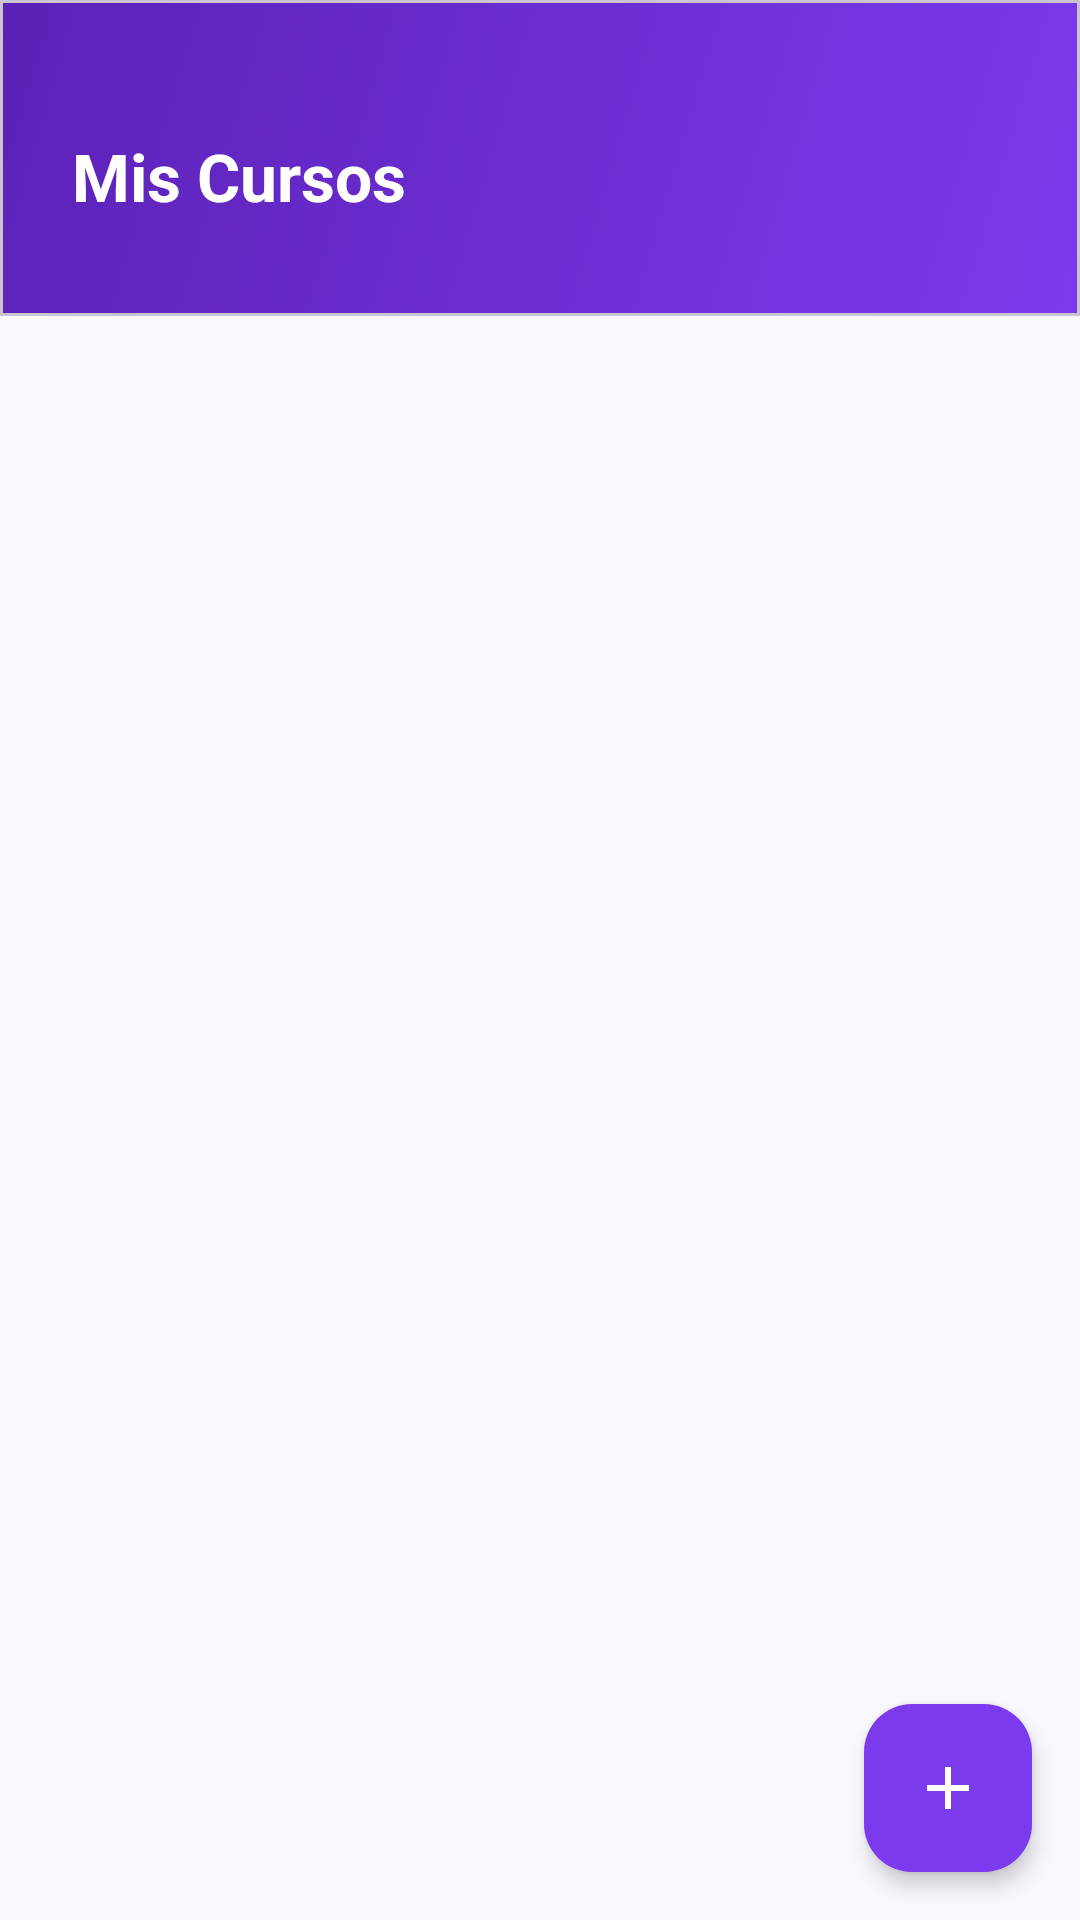

Locate icon controls on the screen. Image size 1080 x 1920, boxes as bbox=(x1, y1, x2, y2).
Agregar curso: bbox=(864, 1704, 1032, 1872)
